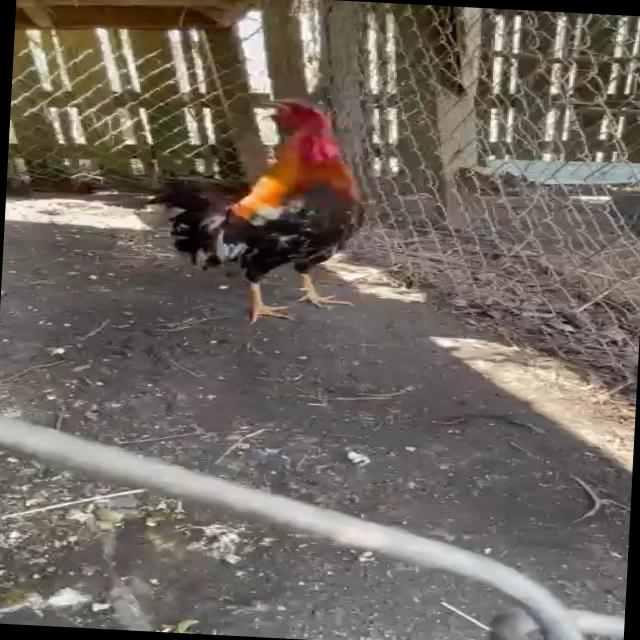walking: (146, 83, 368, 326)
